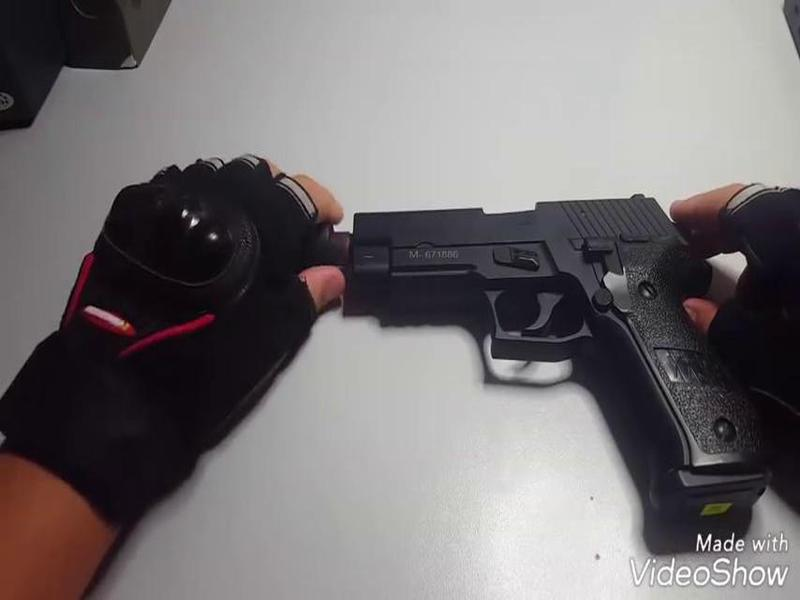Pistola: (338, 192, 782, 522)
